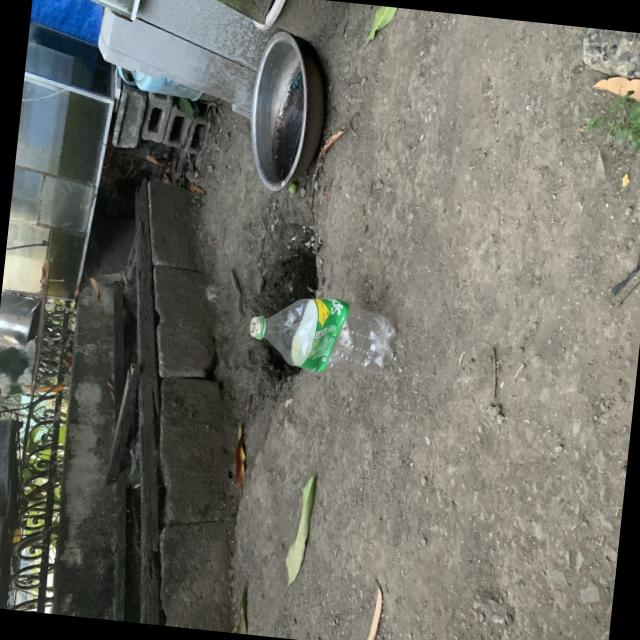Bottle: (250, 297, 395, 372)
